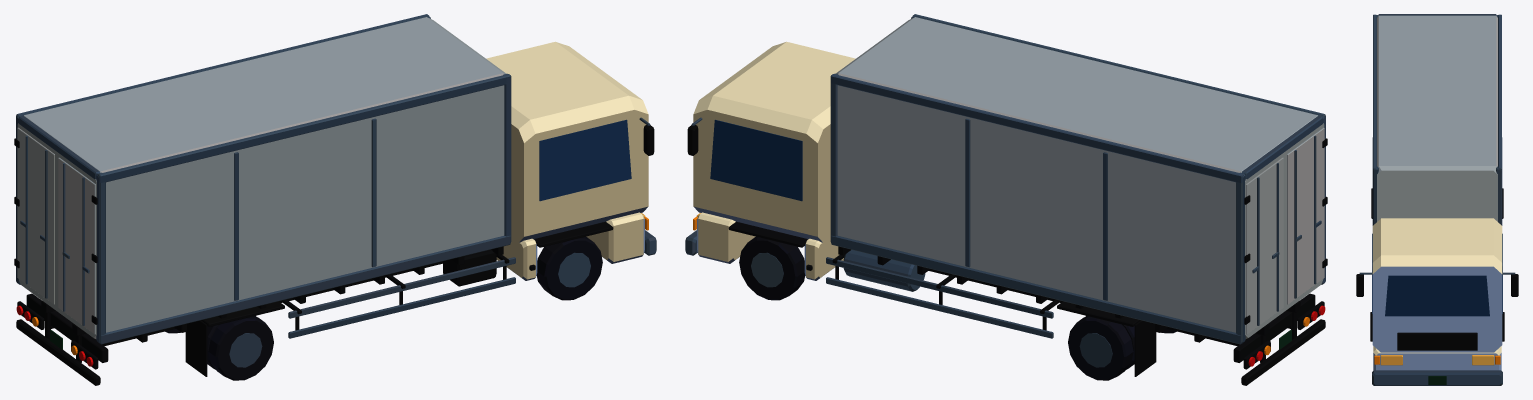
Rendered from HK_Truck_Medium.fbx.
The picture shows the model from 3 angles, left to right: view 1: azimuth 30°, elevation 25°; view 2: azimuth 150°, elevation 25°; view 3: azimuth 270°, elevation 25°; orthographic projection. The views are drawn at different scales.
Parts seen in each view (by area): view 1: HK_Truck_Medium_BodyMain; view 2: HK_Truck_Medium_BodyMain; view 3: HK_Truck_Medium_BodyMain.
Boxes of the visible parts, <box> form: HK_Truck_Medium_BodyMain: <box>14,14,656,385</box>; HK_Truck_Medium_BodyMain: <box>685,14,1327,385</box>; HK_Truck_Medium_BodyMain: <box>1356,14,1518,385</box>.
Size of the model in its own units: 8.81 by 3.62 by 2.88.
